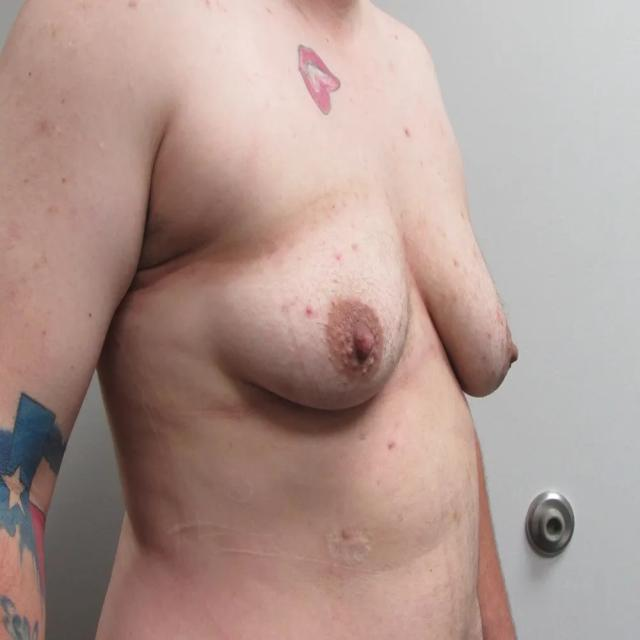Seno ileso: (200, 163, 418, 439), (427, 170, 525, 406)
